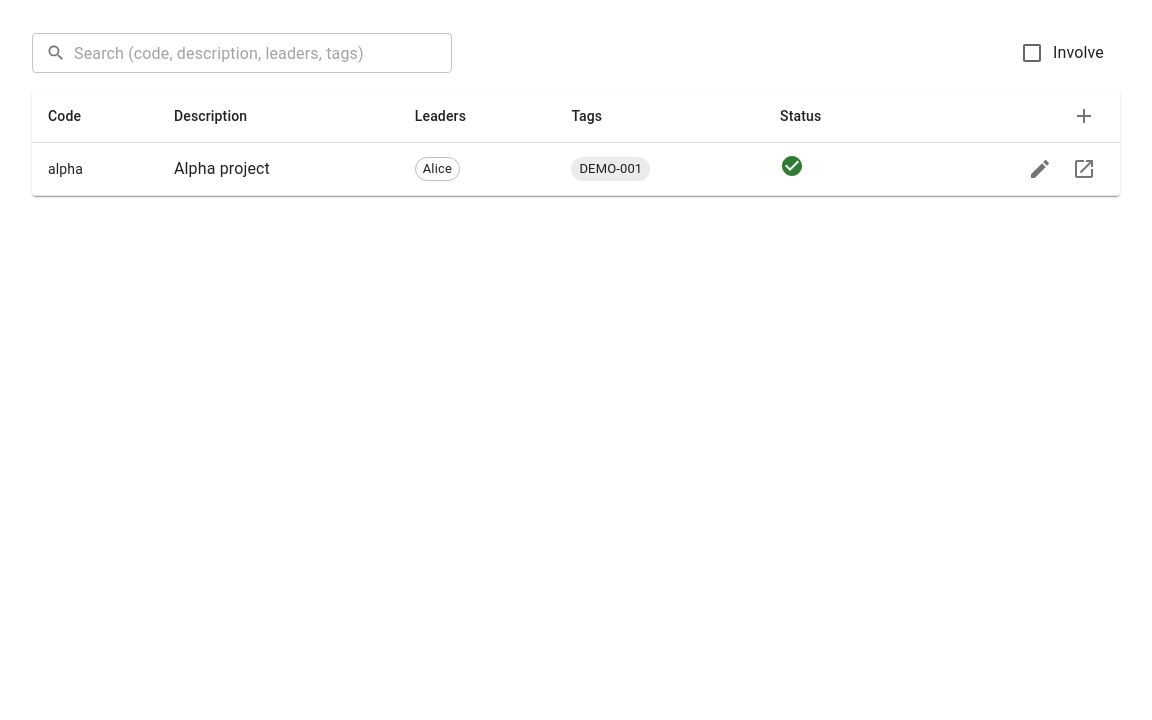
it: ProjectListPage — role gating › opens the drawer with mode='create' when Add is clicked
Click the button named "add project".
click(1084, 116)  # box [1064,96,1104,136]
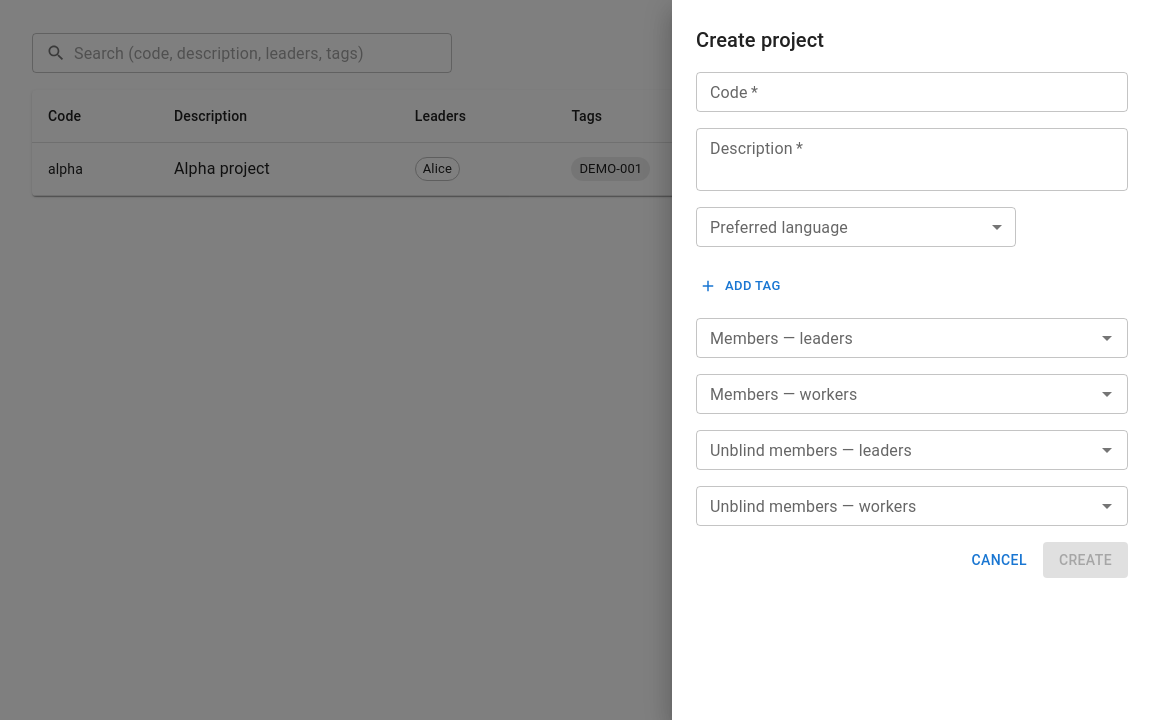
Result: the heading "Create project" is shown at [696,28,824,52]
